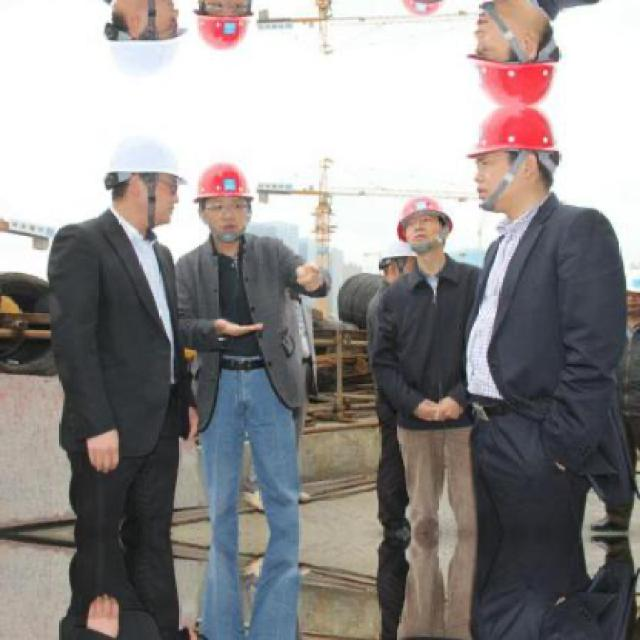con casco: (428, 110, 607, 246), (83, 139, 197, 292), (146, 149, 259, 287), (351, 184, 447, 296)
